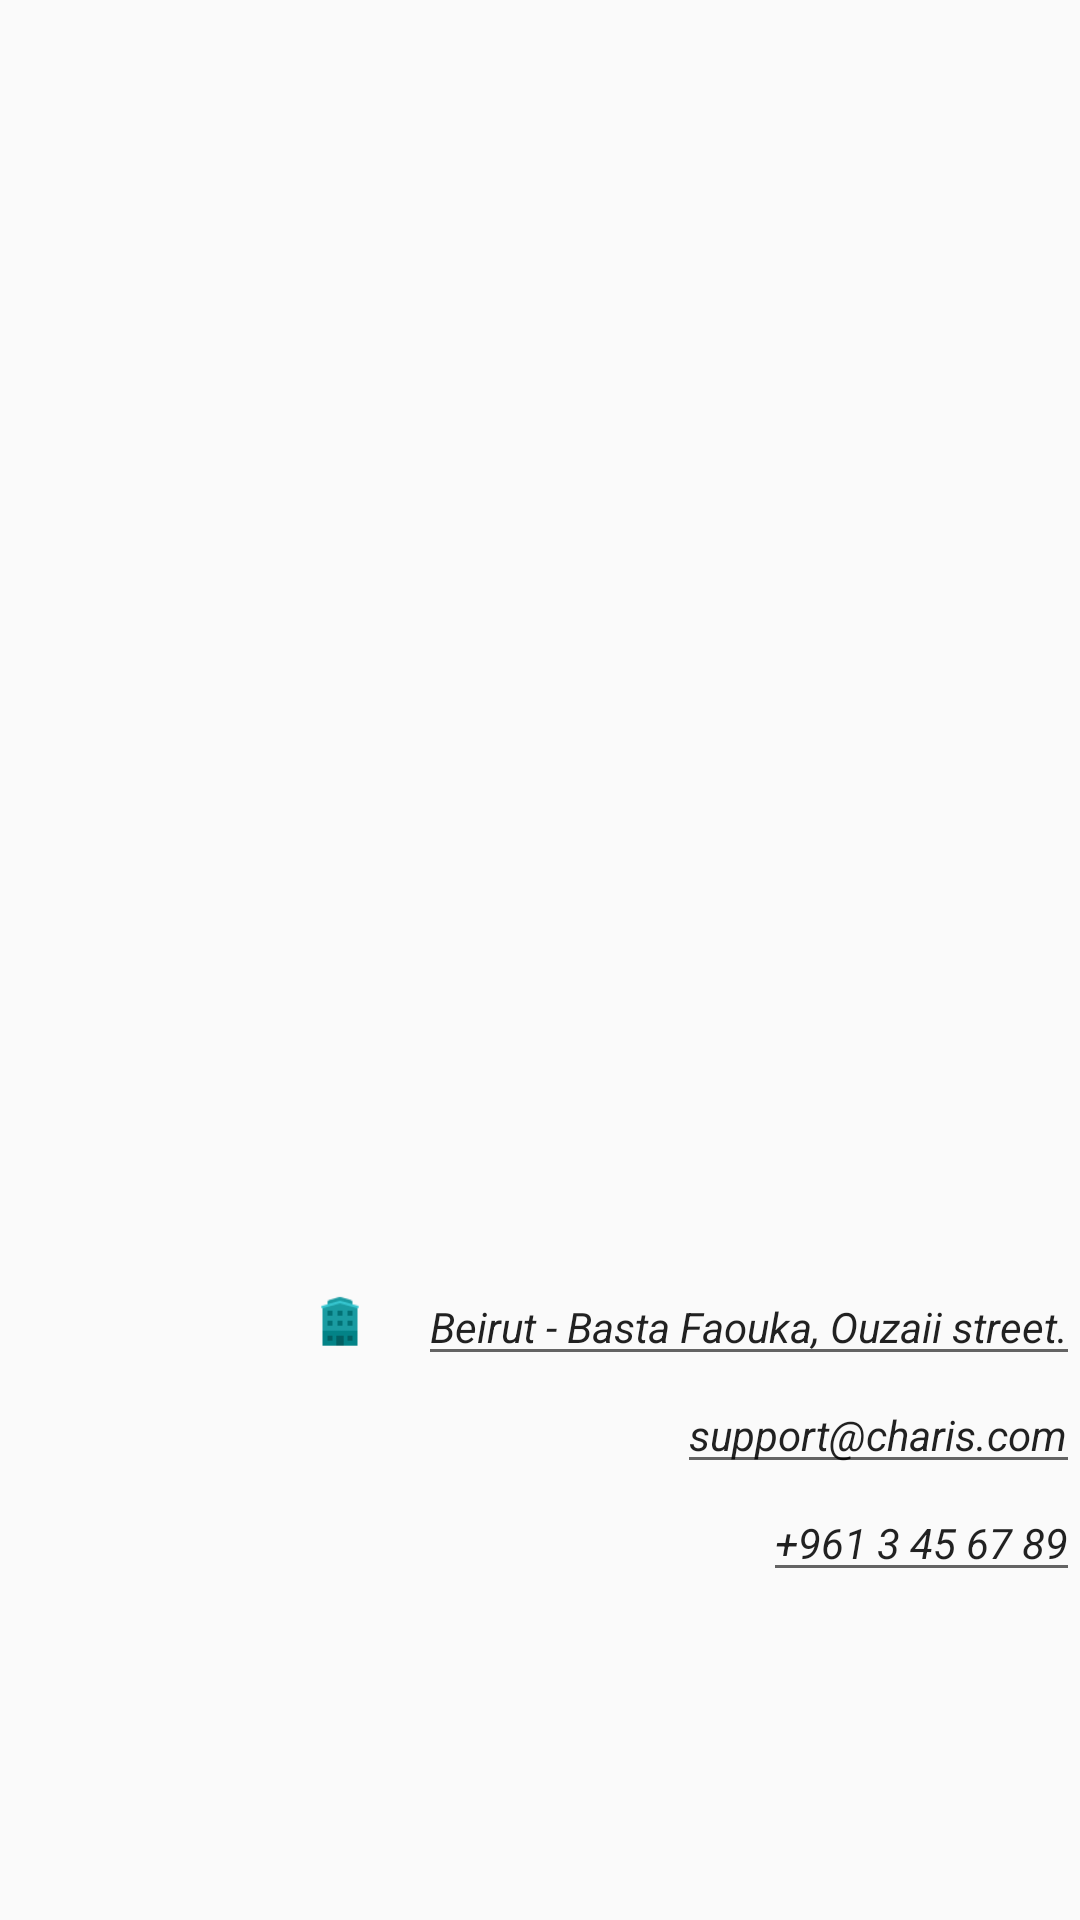

Icon click points for this 1080x1920 phone screenshot, format (x=x, y=y):
address: (x=340, y=1321)
